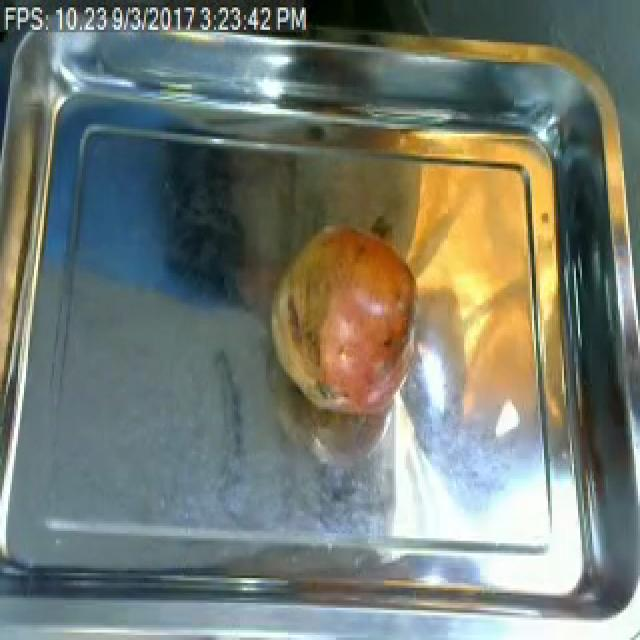fruit: (258, 206, 430, 436)
